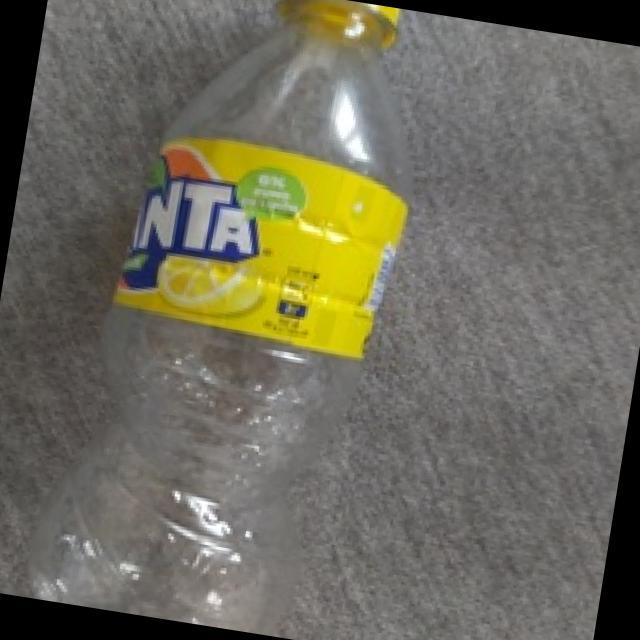good: (17, 0, 449, 640)
